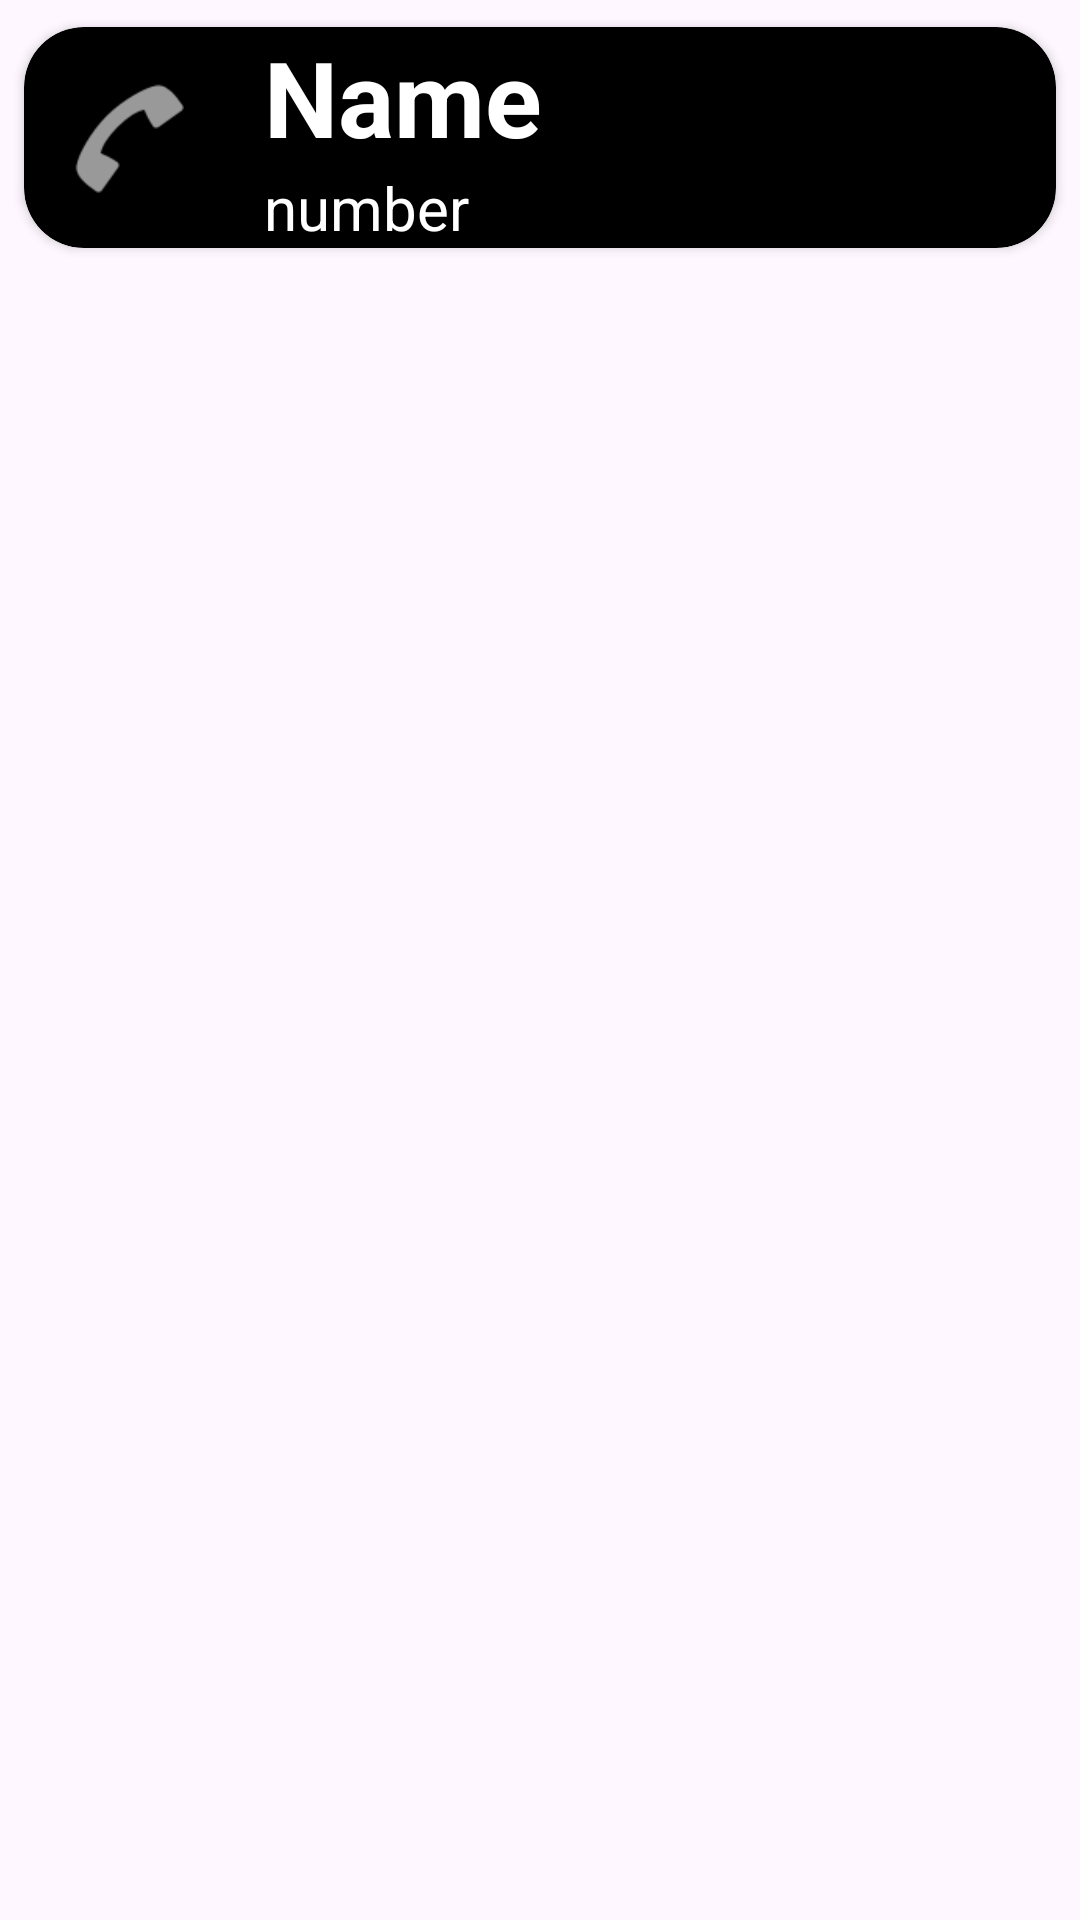

Screen size 1080x1920. Icon name, then its center in pixels as (x,y):
call: (130,139)
